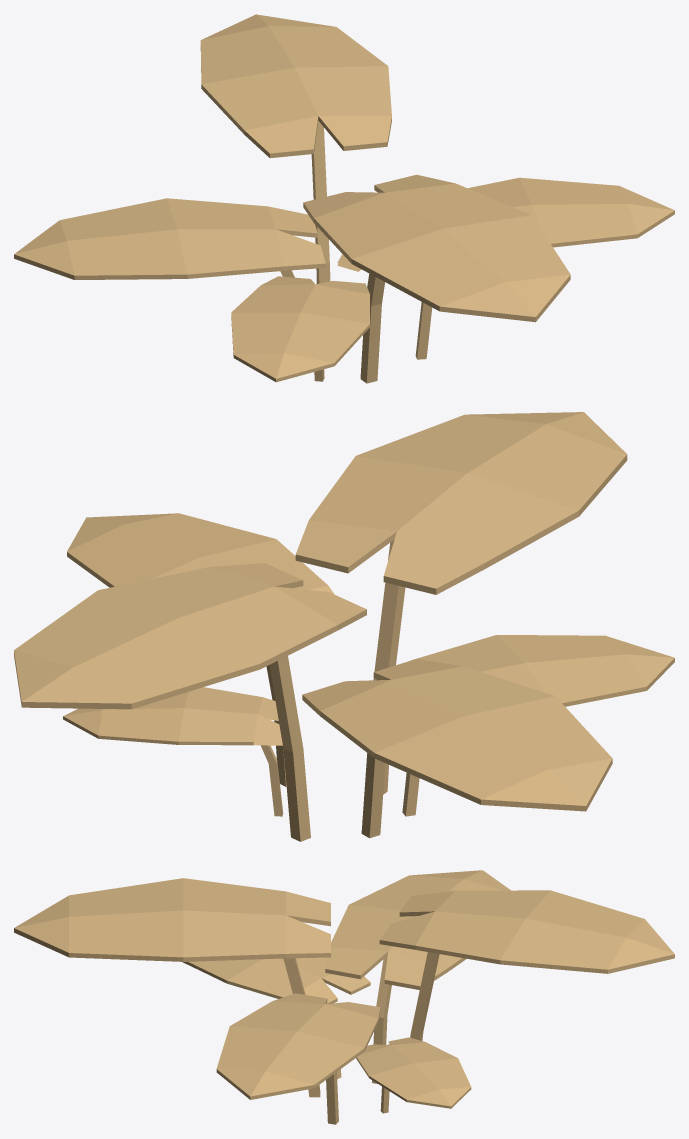
The model's file is Mega_Asset_s_Pack_Cube_342.FBX.
3 renders of one model, top to bottom at view 1: azimuth 30°, elevation 25°; view 2: azimuth 150°, elevation 25°; view 3: azimuth 270°, elevation 25°, orthographic. The views are drawn at different scales.
Visible parts, largest first — view 1: Mega_Asset_s_Pack_Cube_342; view 2: Mega_Asset_s_Pack_Cube_342; view 3: Mega_Asset_s_Pack_Cube_342.
Boxes of the visible parts, box(x1,y1,x2,y2) form: Mega_Asset_s_Pack_Cube_342: box(14, 14, 674, 383); Mega_Asset_s_Pack_Cube_342: box(14, 412, 674, 841); Mega_Asset_s_Pack_Cube_342: box(14, 870, 674, 1124).
Size of what is drawn, in the model's own units: 112 by 134 by 43.64.
